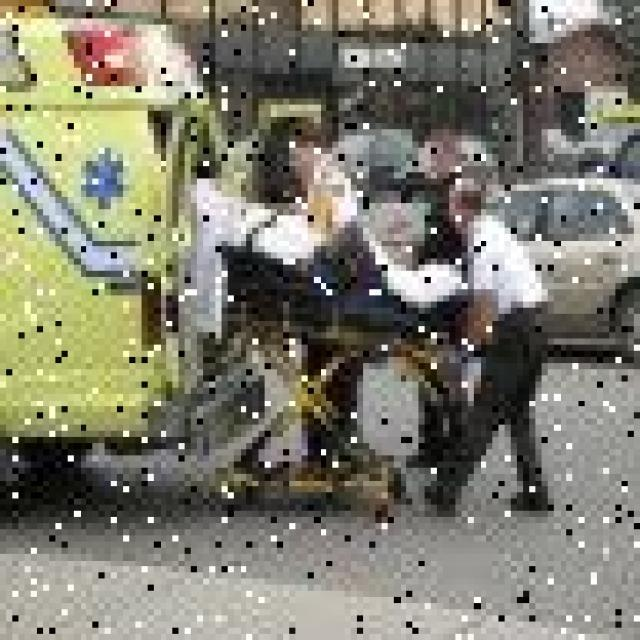emergency-vehicle: (0, 0, 314, 505)
